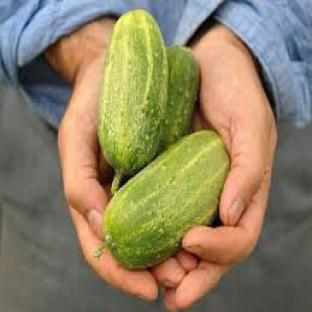Cucumber: (104, 131, 230, 268), (98, 10, 167, 192), (160, 46, 199, 152)
